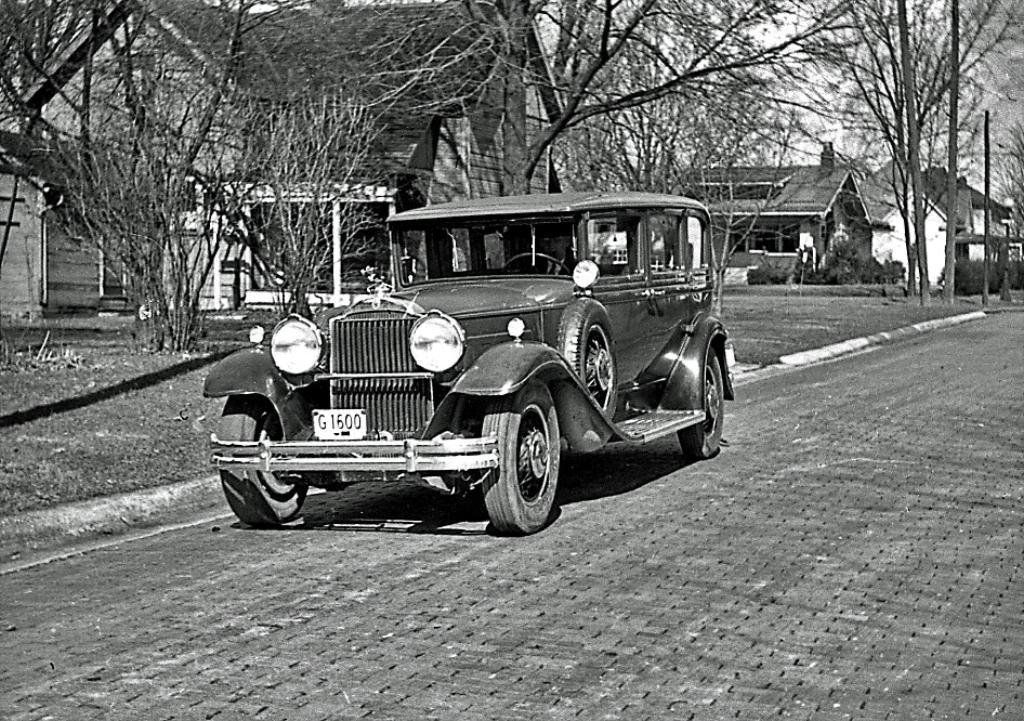Car: (214, 164, 724, 553)
